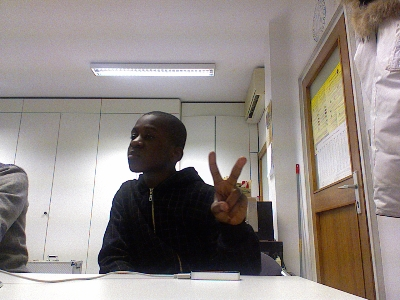剪刀: (206, 148, 251, 226)
